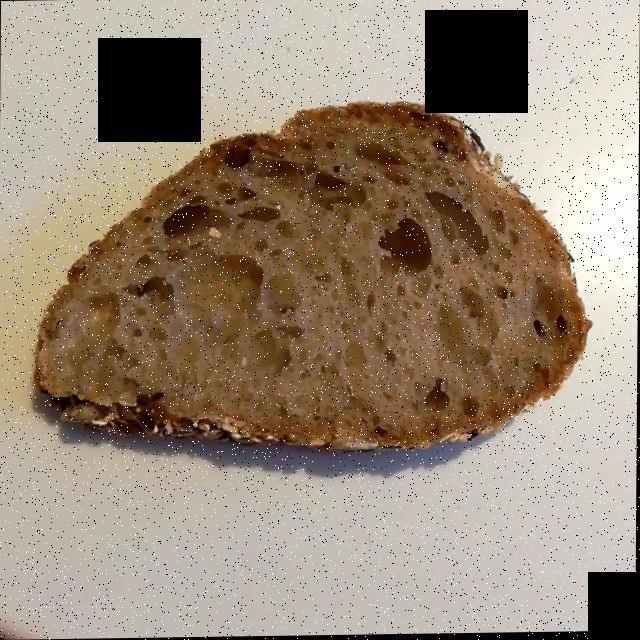bread: (33, 106, 575, 448)
